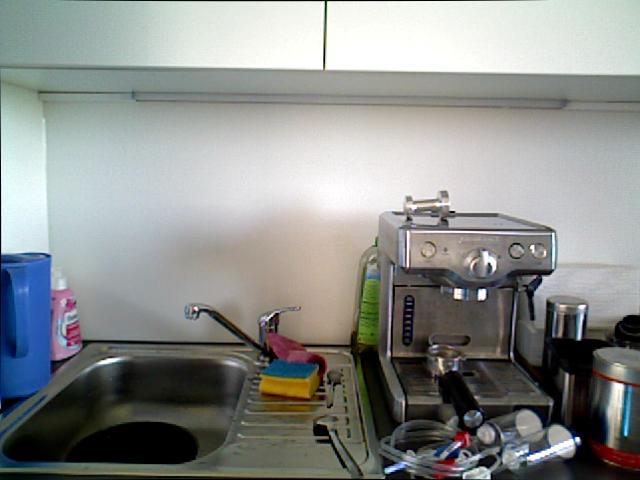bench: (350, 229, 392, 366), (41, 265, 89, 361)
couch: (0, 345, 255, 470)
handbag: (0, 250, 54, 400)
toilet: (307, 411, 367, 480), (323, 364, 350, 408)
